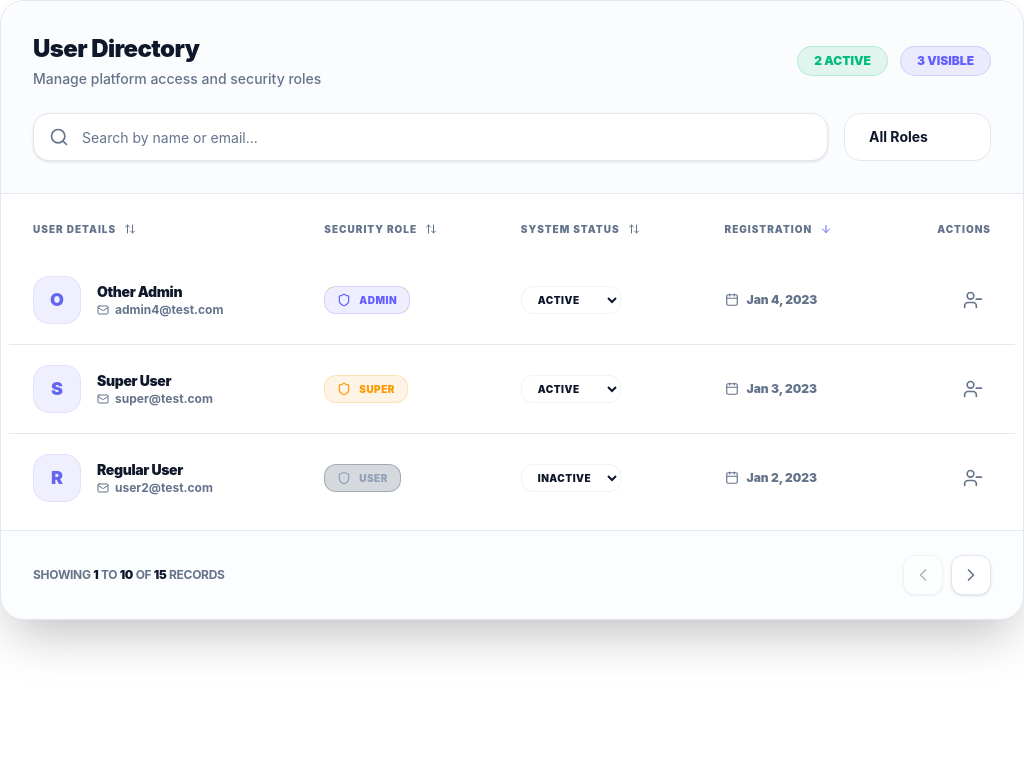
Test: AdminUserTable › filters users by search term
Expected: the text "Regular User" is shown, [97,461,183,478]
Step 1. Type "super" into the field with placeholder "Search by name or email..." → (430, 137), box [33,113,828,161]
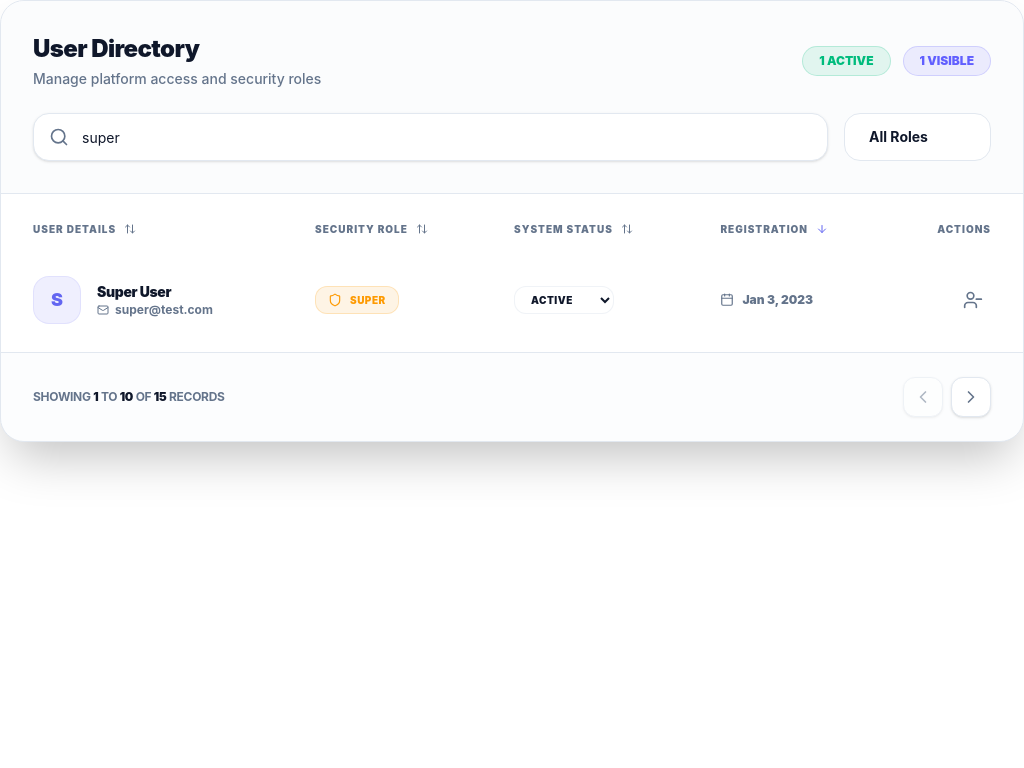
Expected: the text "Super User" is shown, [97,283,171,300]
Expected: the text "Regular User" is gone
